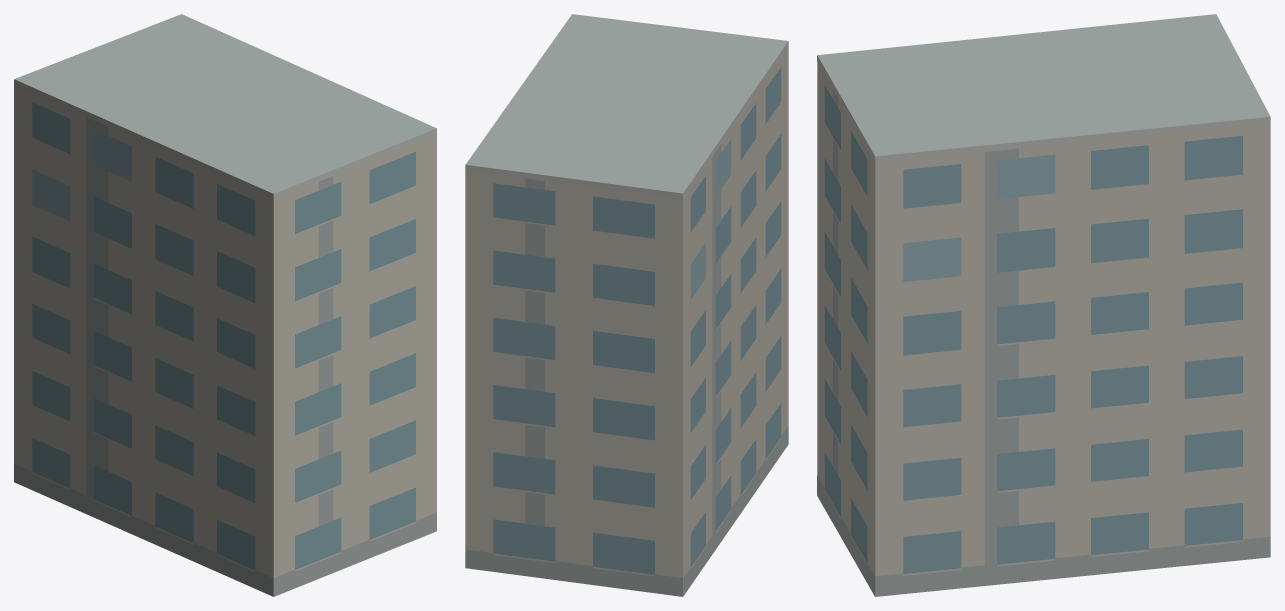
The model's file is survey-upis-32990335.glb.
3 views of the same model, side by side, from view 1: azimuth 30°, elevation 25°; view 2: azimuth 150°, elevation 25°; view 3: azimuth 270°, elevation 25° (orthographic). The views are drawn at different scales.
Parts seen in each view (by area): view 1: survey-upis-32990335.tmp; view 2: survey-upis-32990335.tmp; view 3: survey-upis-32990335.tmp.
Part boxes in pixels (x1,y1,x2,y2): survey-upis-32990335.tmp: (14, 14, 436, 596); survey-upis-32990335.tmp: (465, 14, 788, 596); survey-upis-32990335.tmp: (817, 14, 1270, 596).
Bounding box in the file's own units: 11.44 × 16.5 × 15.4.
